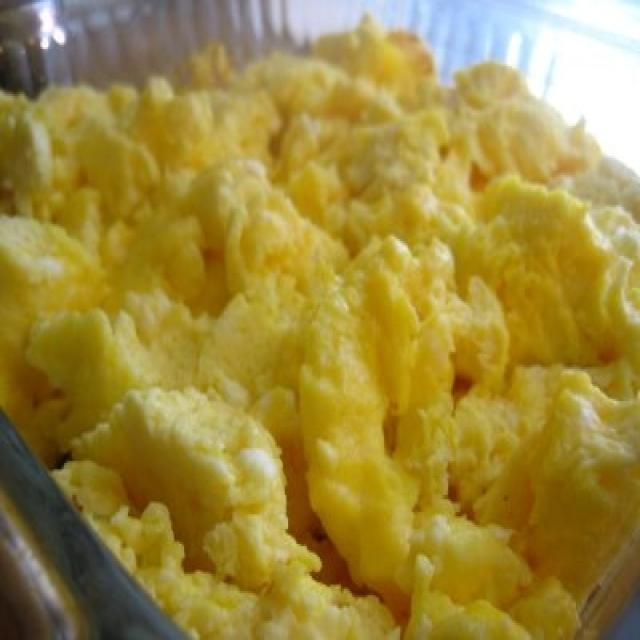鸡蛋料理: (8, 32, 624, 631)
